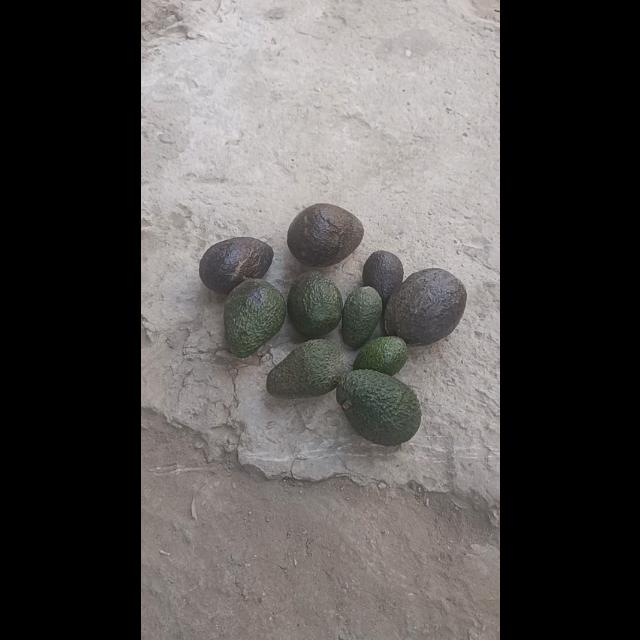Primera: (384, 267, 466, 345), (336, 368, 420, 444), (220, 278, 286, 356), (285, 202, 363, 266), (198, 235, 272, 292)
Segunda: (266, 338, 346, 397), (286, 270, 342, 336)
Tercera: (340, 286, 382, 348), (361, 248, 404, 308), (351, 336, 407, 376)
